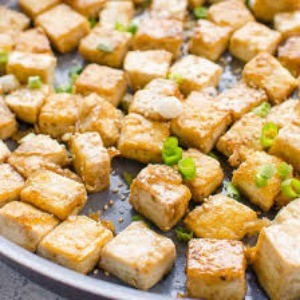tofu_brain food: (29, 47, 279, 224)
